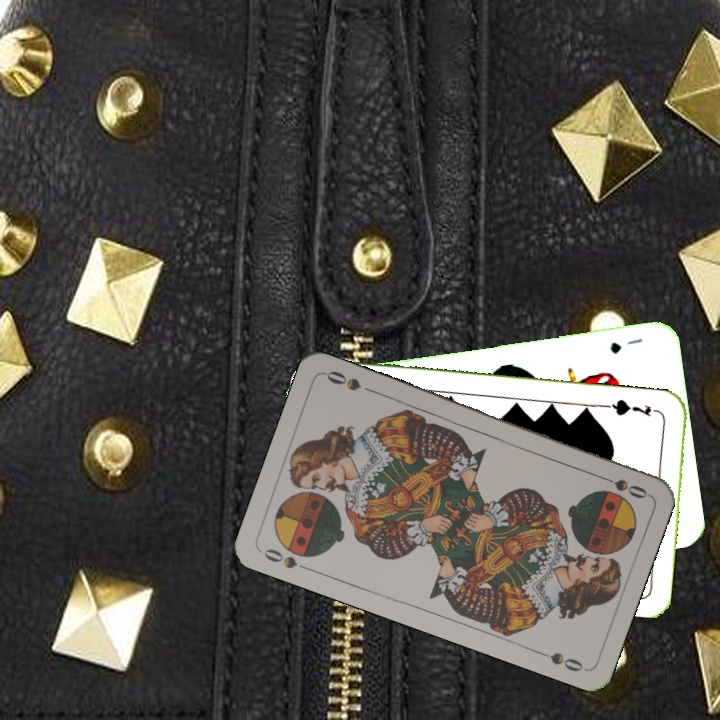G7: (603, 395, 662, 420)
GU: (606, 334, 645, 356)
SO: (593, 470, 650, 502), (257, 544, 314, 574)
